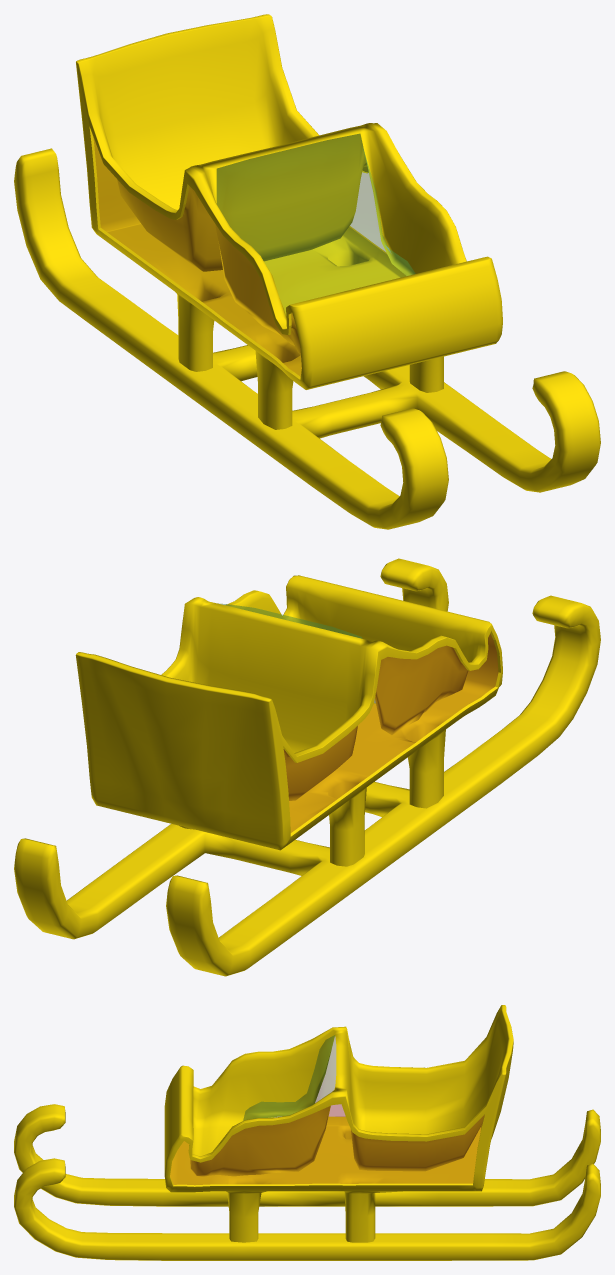
Rendered from sleigh.glb.
3 renders of one model, top to bottom at view 1: azimuth 30°, elevation 25°; view 2: azimuth 150°, elevation 25°; view 3: azimuth 270°, elevation 25°, orthographic. The views are drawn at different scales.
Parts seen in each view (by area): view 1: Sleigh_obj; view 2: Sleigh_obj; view 3: Sleigh_obj.
Boxes of the visible parts, x1,y1,x2,y2 form: Sleigh_obj: [14, 14, 600, 529]; Sleigh_obj: [14, 558, 600, 976]; Sleigh_obj: [14, 1005, 600, 1260].
Size of the model in its own units: 1.42 by 1.76 by 4.94.
